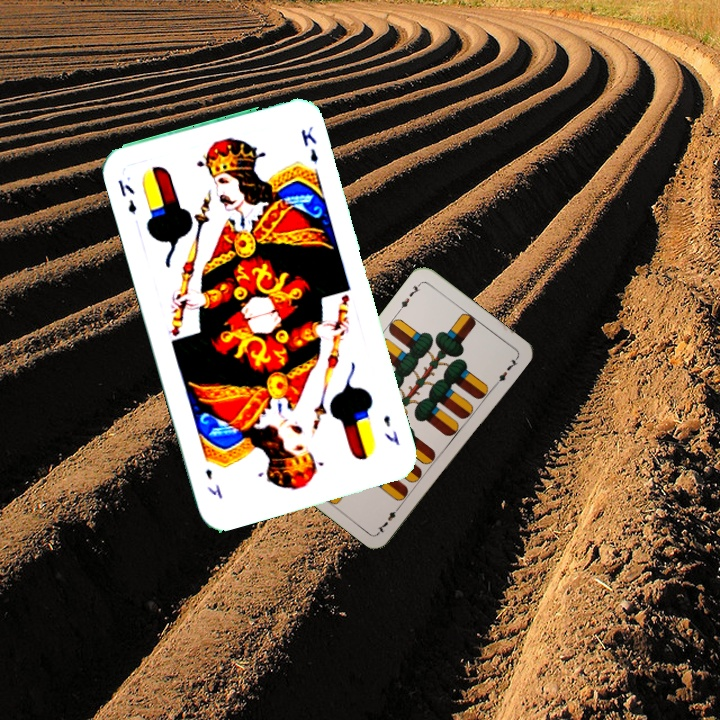E7: (373, 501, 404, 535), (394, 279, 423, 314)
EK: (114, 176, 140, 216), (379, 411, 402, 448)
